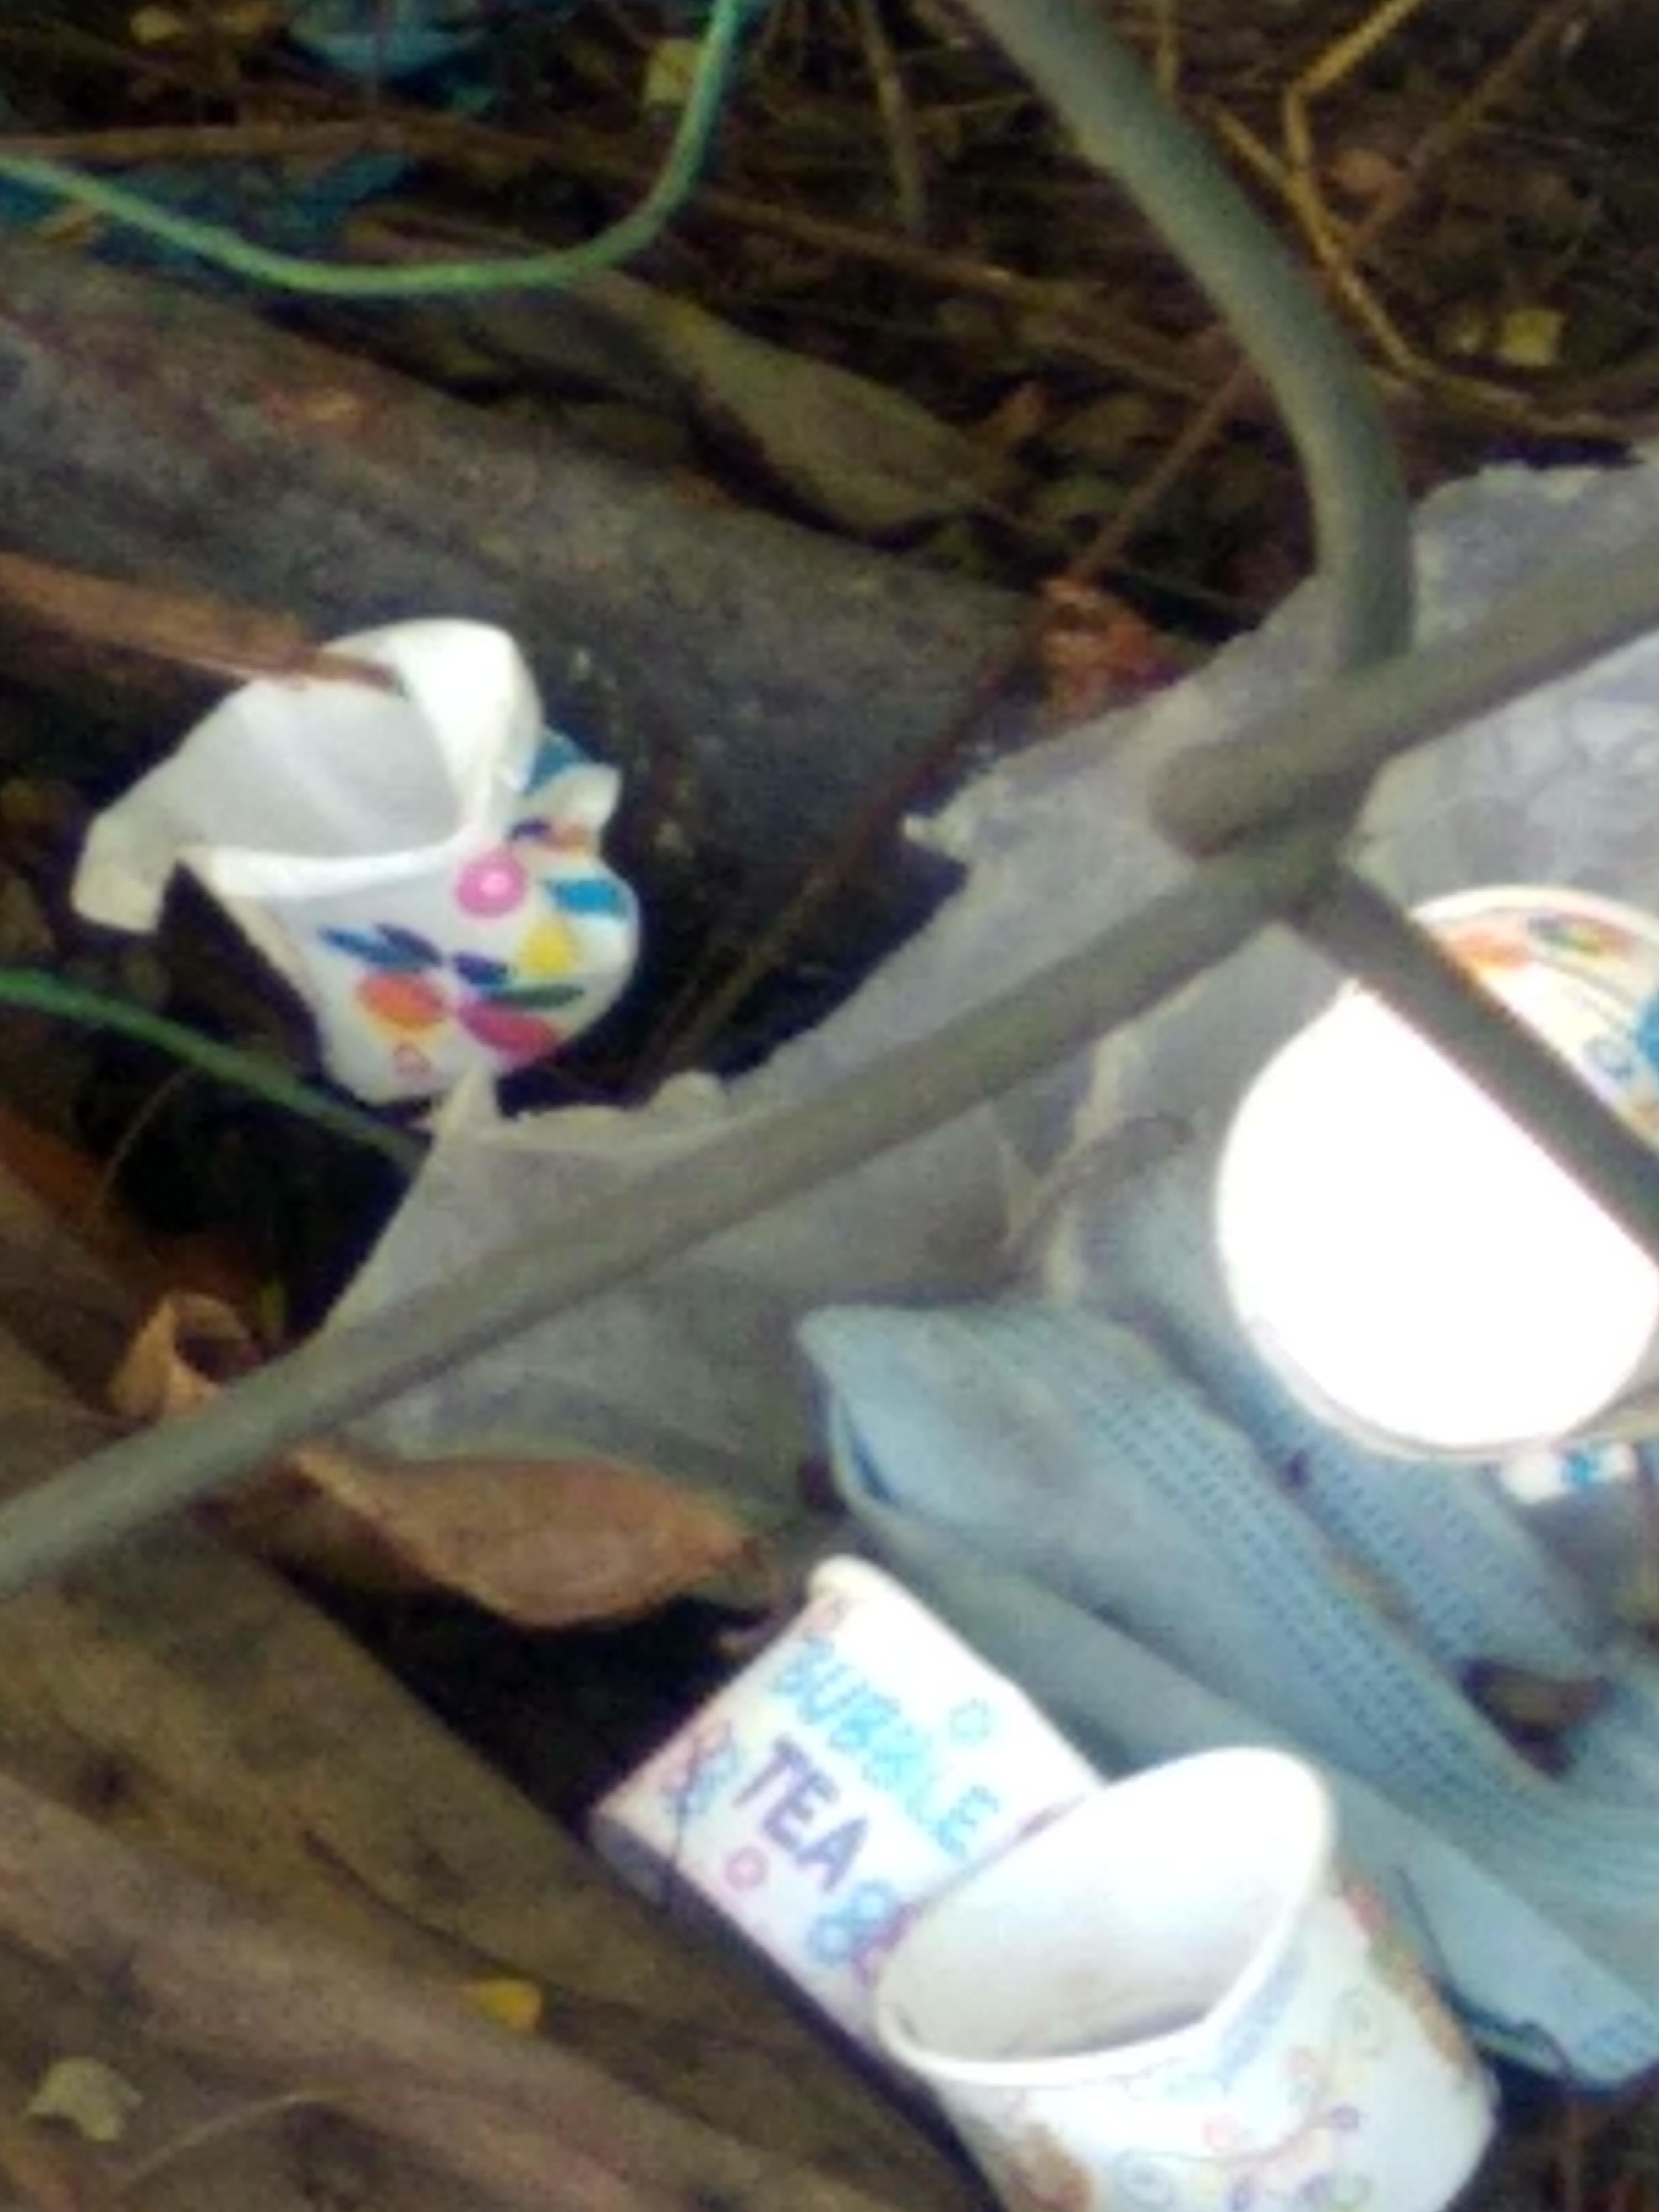trash: (49, 420, 1659, 2212)
